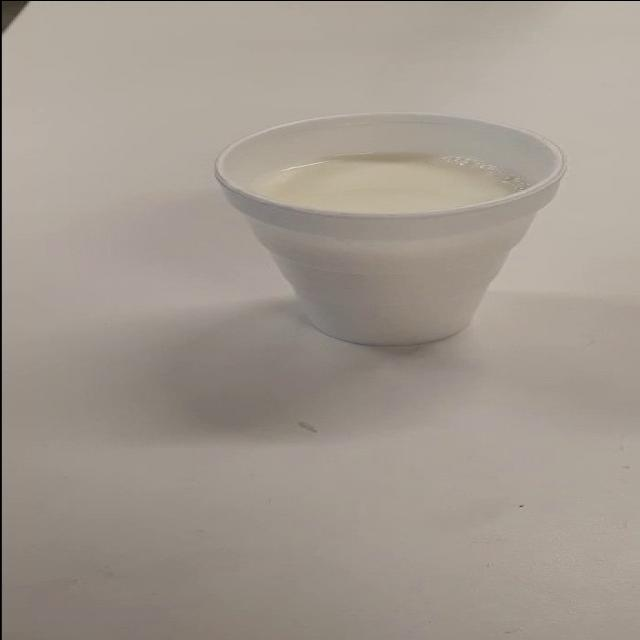milk: (195, 96, 610, 349)
